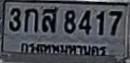1: (96, 10, 103, 34)
3: (9, 7, 20, 30)
4: (78, 9, 90, 34)
7: (108, 10, 121, 35)
8: (64, 9, 74, 33)
A01: (24, 8, 38, 32)
A40: (41, 6, 57, 32)
BKK: (18, 40, 109, 59)
